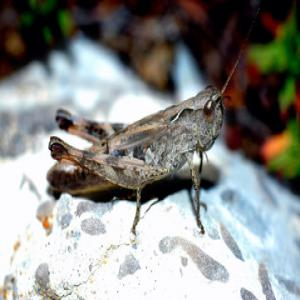locust: (40, 76, 250, 218)
